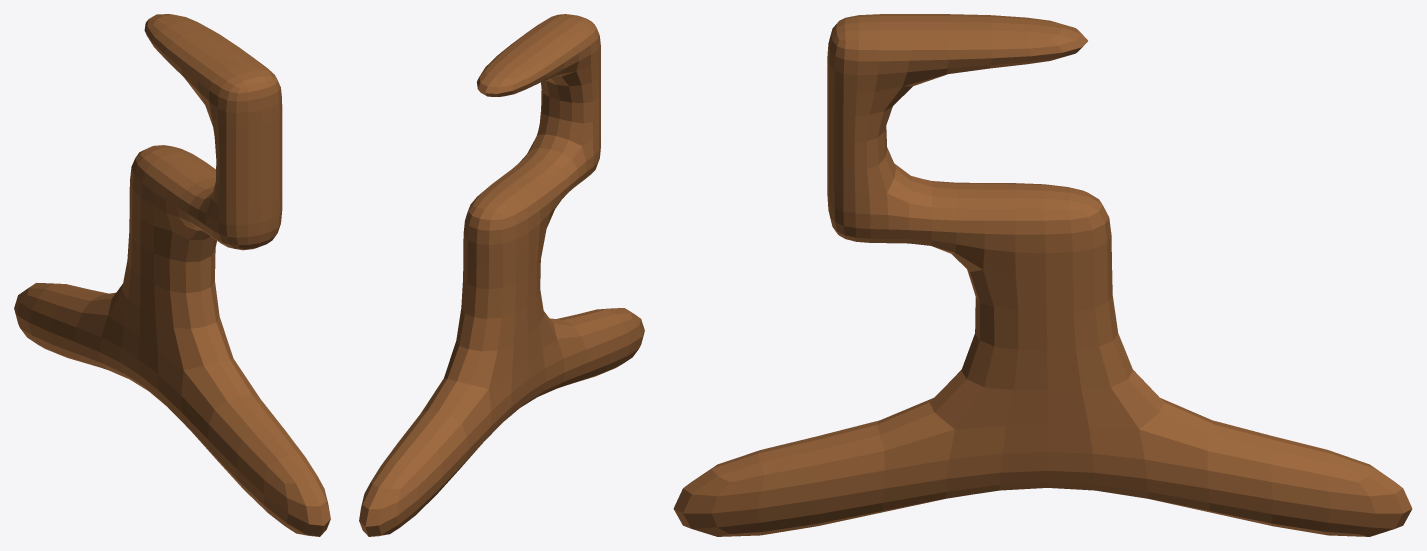
Rendered from hanger.fbx.
3 views of the same model, side by side, from view 1: azimuth 30°, elevation 25°; view 2: azimuth 150°, elevation 25°; view 3: azimuth 270°, elevation 25° (orthographic). The views are drawn at different scales.
Visible parts, largest first — view 1: Cube.001; view 2: Cube.001; view 3: Cube.001.
Boxes of the visible parts, bbox=[...] form: Cube.001: bbox=[14, 14, 330, 536]; Cube.001: bbox=[359, 14, 644, 536]; Cube.001: bbox=[673, 14, 1412, 536].
Size of the model in its own units: 19.2 by 122 by 159.
